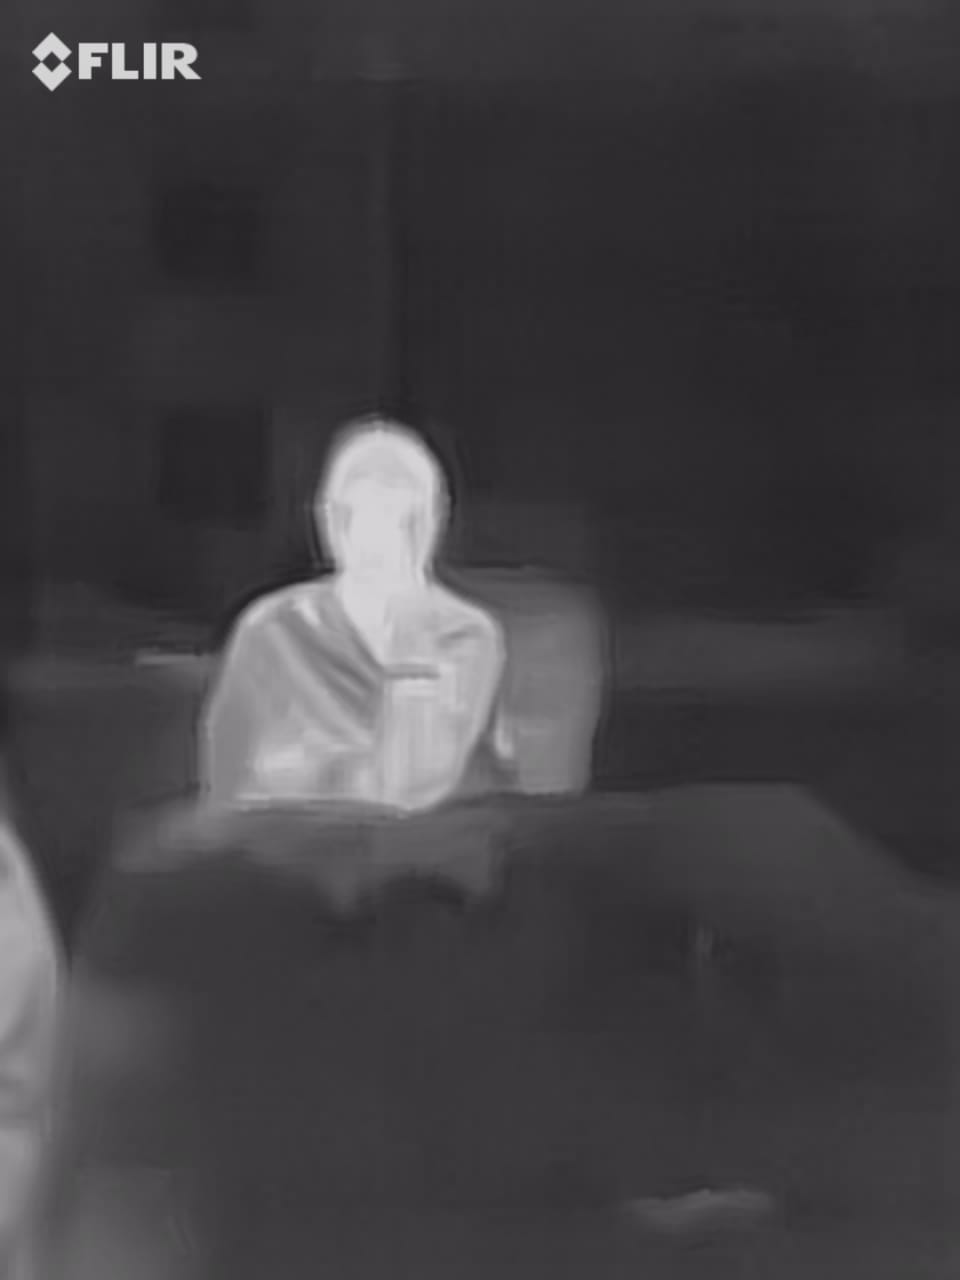head: (291, 411, 451, 583)
